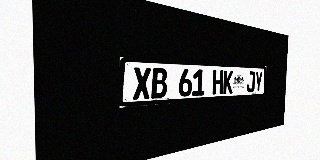1: (192, 69, 205, 96)
6: (179, 69, 192, 97)
B: (151, 68, 167, 99)
H: (212, 70, 223, 95)
J: (246, 71, 255, 93)
K: (223, 70, 233, 94)
X: (133, 67, 151, 100)
Y: (255, 71, 263, 92)
